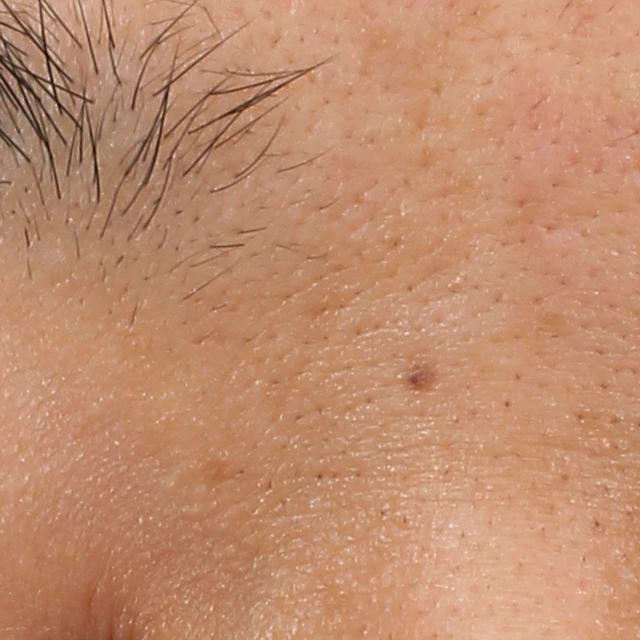nevus: (403, 360, 430, 393)
